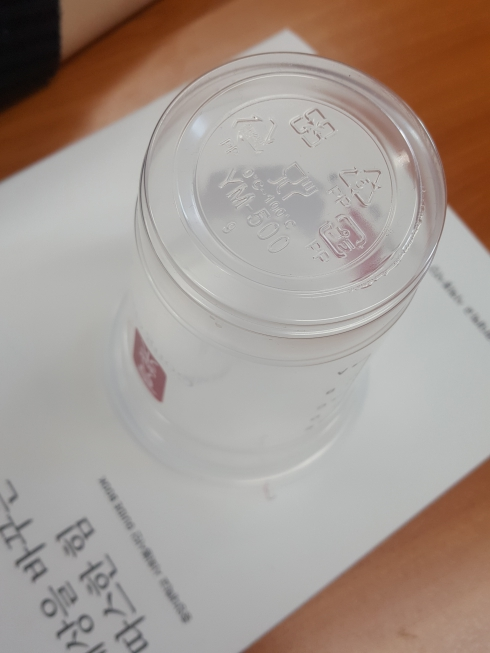recycle: (327, 151, 386, 211)
